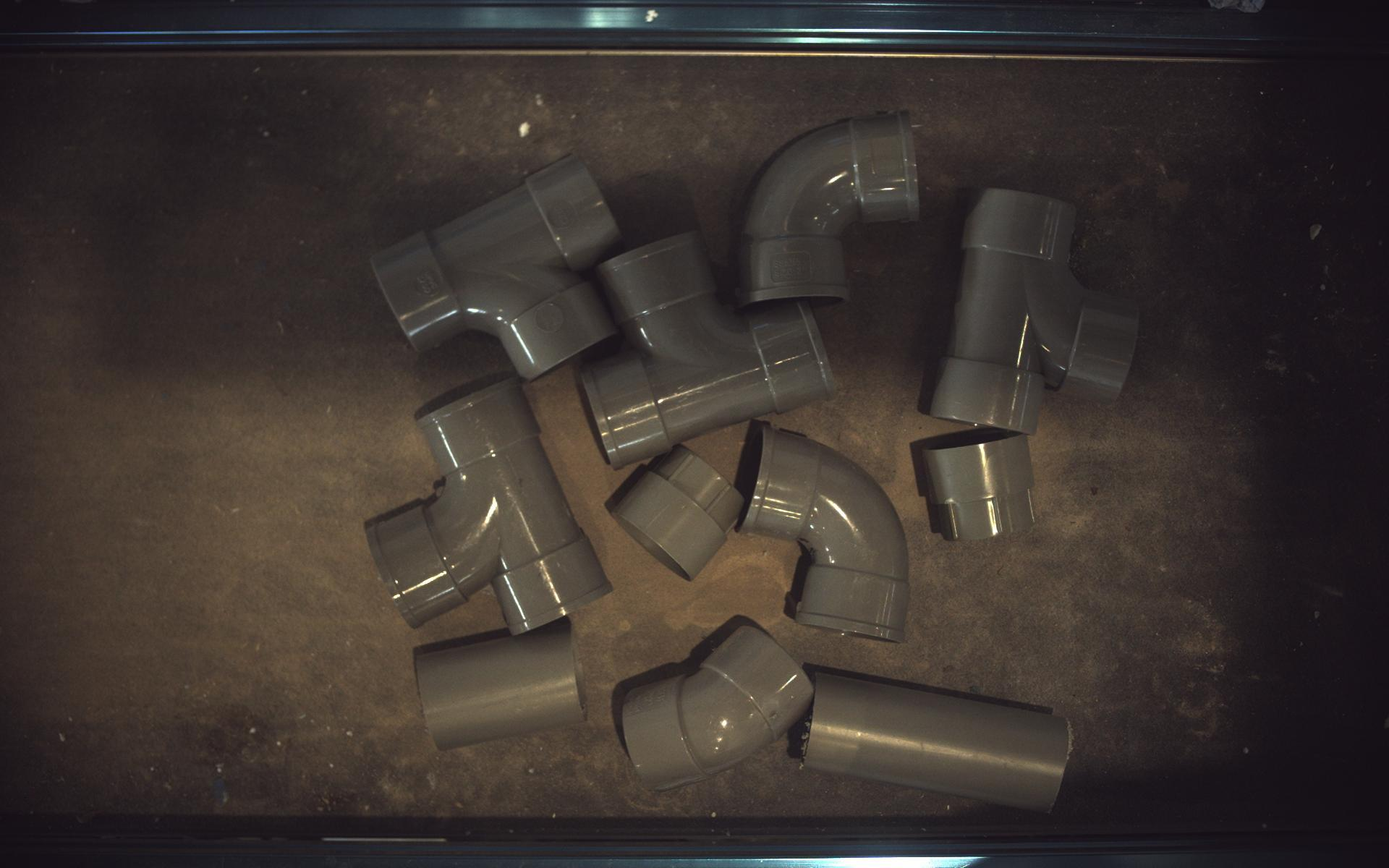pipes: (365, 377, 611, 635), (582, 231, 836, 469), (371, 155, 620, 379), (934, 188, 1140, 432), (805, 673, 1073, 813), (740, 424, 911, 642), (742, 110, 921, 305), (624, 626, 815, 791), (415, 618, 586, 751), (608, 446, 744, 581), (914, 428, 1037, 541)
